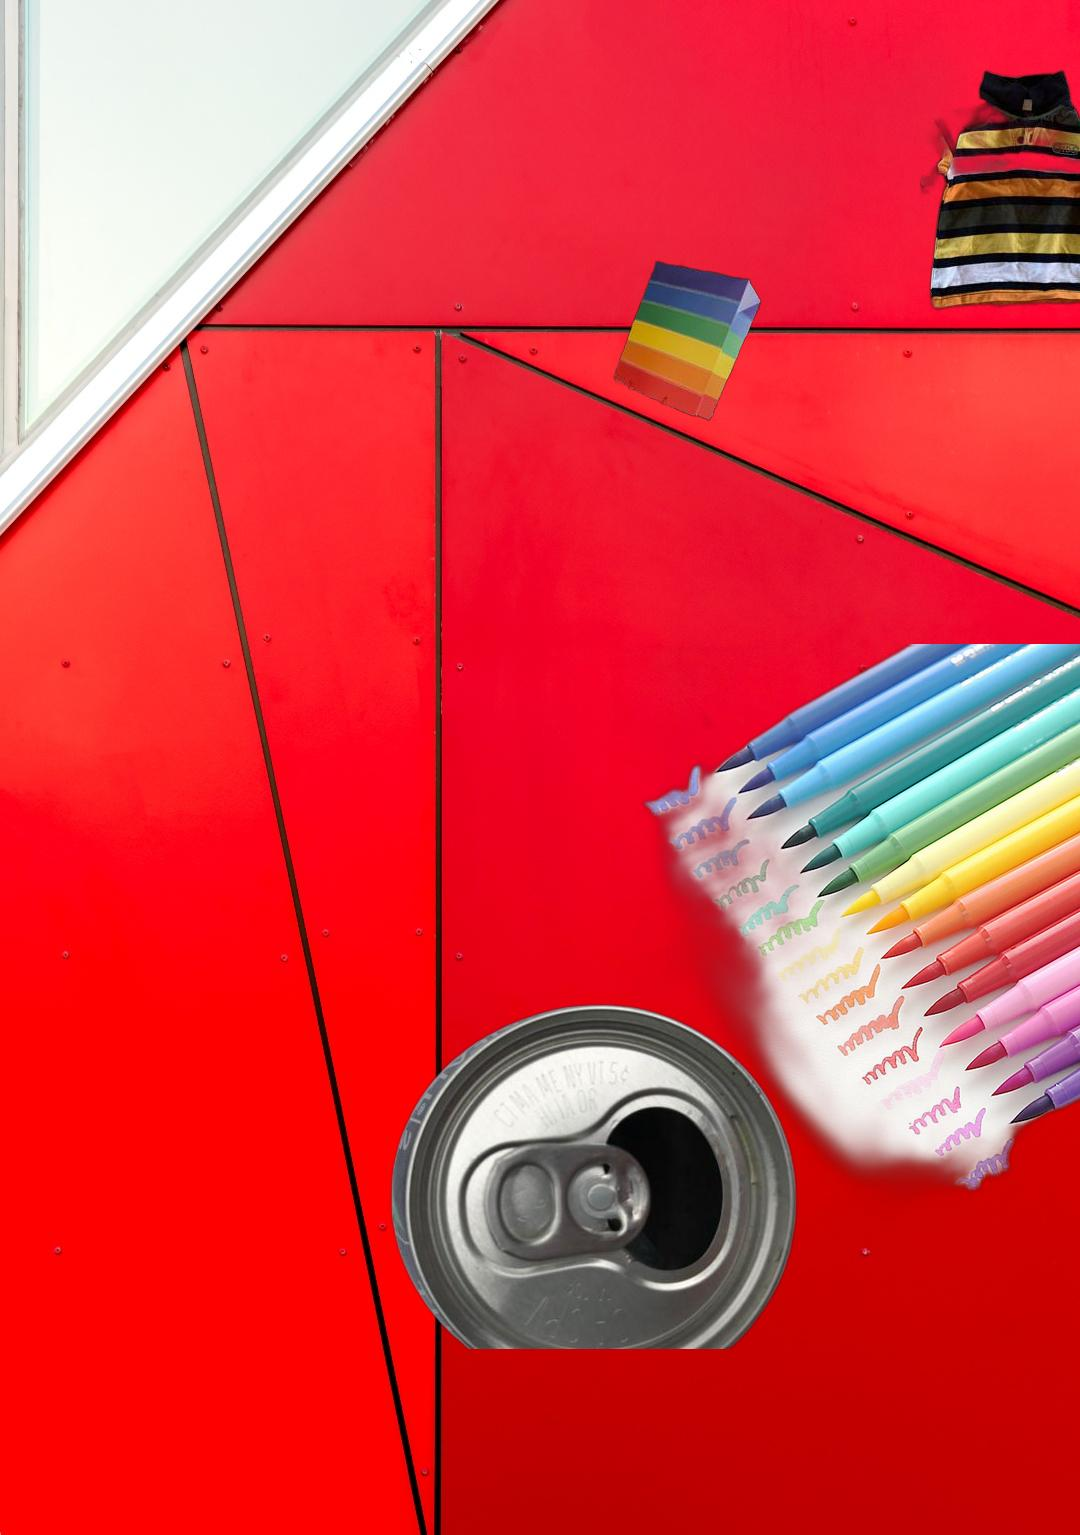clothes: (918, 65, 1080, 314)
metal-cans: (387, 1002, 799, 1349)
paper-bag: (611, 247, 764, 423)
penholder: (598, 644, 1080, 1244)
